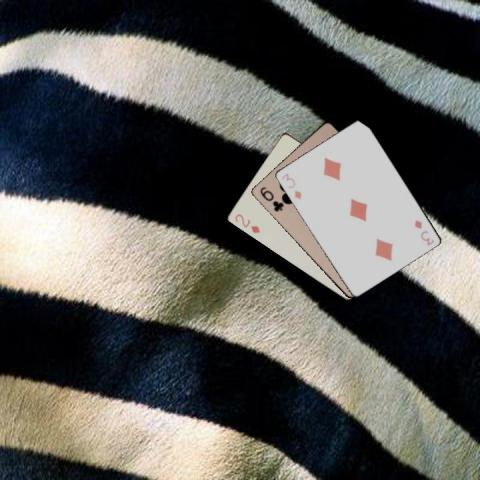2d: (232, 210, 262, 235)
3d: (278, 170, 302, 201), (411, 216, 435, 246)
6c: (256, 184, 284, 213)
